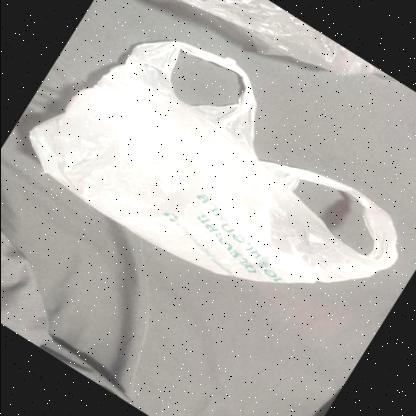Others: (27, 38, 398, 286)
